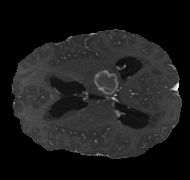Edema: (88, 65, 123, 99)
EnhancingTumors: (93, 69, 120, 98)
Necrosis: (93, 69, 119, 96)
